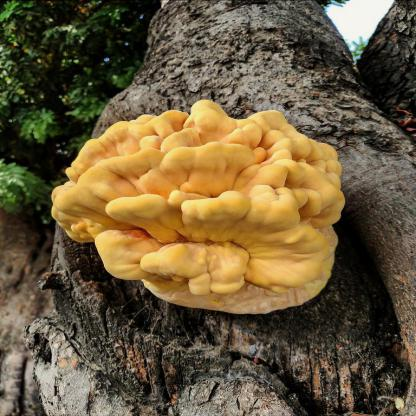CoW: (51, 101, 344, 314)
